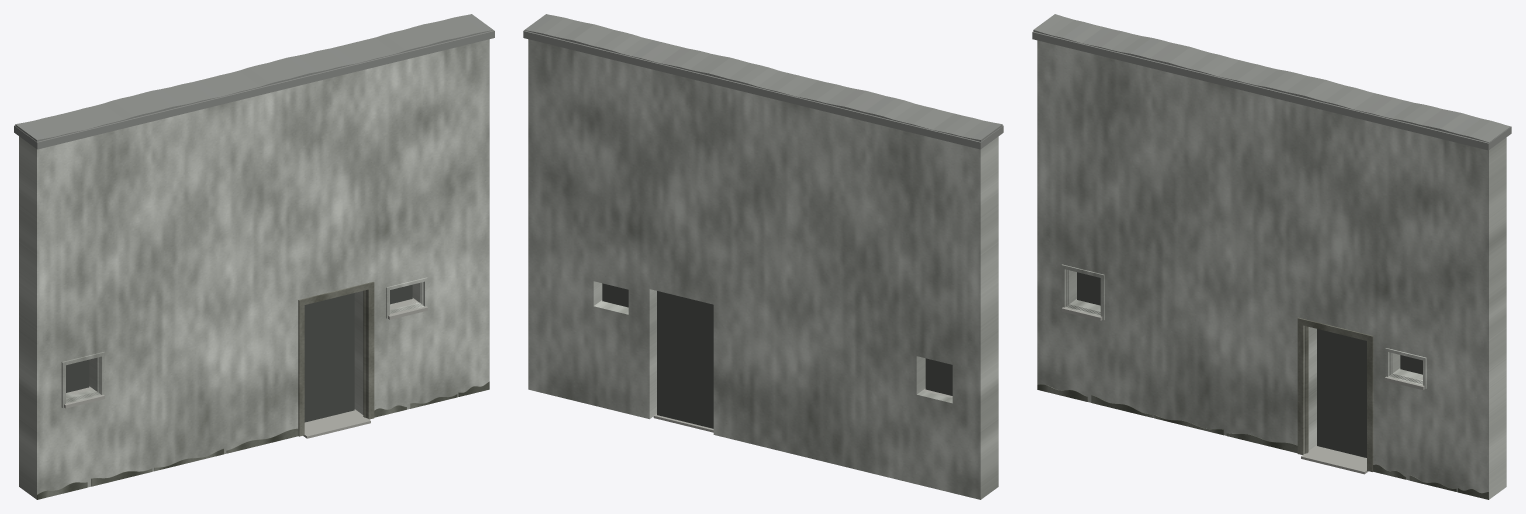
The model's file is liantang-lu-rice-house-riverside-gate-near.glb.
3 views of the same model, side by side, from view 1: azimuth 30°, elevation 25°; view 2: azimuth 150°, elevation 25°; view 3: azimuth 330°, elevation 25° (orthographic).
Parts seen in each view (by area): view 1: 练塘陆家米行旧址沿河院墙与石框门洞; view 2: 练塘陆家米行旧址沿河院墙与石框门洞; view 3: 练塘陆家米行旧址沿河院墙与石框门洞.
Boxes of the visible parts, x1,y1,x2,y2 form: 练塘陆家米行旧址沿河院墙与石框门洞: [14, 14, 494, 499]; 练塘陆家米行旧址沿河院墙与石框门洞: [523, 14, 1003, 499]; 练塘陆家米行旧址沿河院墙与石框门洞: [1032, 14, 1511, 499].
Bounding box in the file's own units: 6.51 × 4.95 × 0.578.
Materials: 6 (3 with a texture image).
